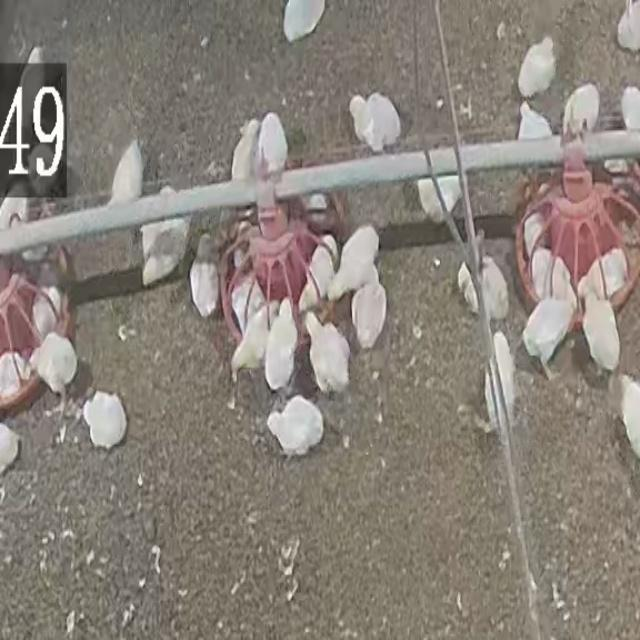chicken: (136, 188, 192, 288), (326, 224, 382, 301), (265, 395, 325, 457), (523, 297, 574, 369), (482, 331, 517, 434), (306, 314, 350, 395), (229, 304, 274, 379), (31, 330, 78, 400), (580, 291, 619, 373), (347, 90, 399, 150), (264, 306, 300, 392), (298, 238, 338, 314), (188, 234, 222, 319), (82, 389, 128, 450), (578, 248, 628, 302), (108, 139, 146, 207), (559, 82, 603, 136), (517, 38, 559, 94), (352, 282, 387, 349), (256, 112, 290, 180), (229, 274, 265, 334), (617, 374, 640, 467), (417, 176, 461, 224), (282, 0, 328, 44), (479, 256, 510, 321), (230, 119, 260, 185), (510, 102, 554, 145), (31, 285, 64, 341), (0, 350, 31, 404), (0, 188, 30, 243), (610, 0, 640, 52), (0, 421, 22, 478), (522, 208, 546, 260), (457, 260, 479, 314), (617, 84, 640, 134)
